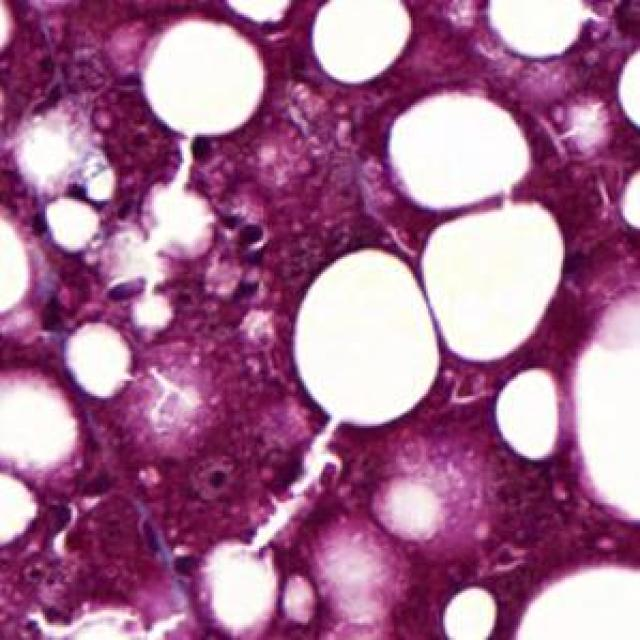steatosis: (314, 0, 411, 81), (441, 584, 499, 640)
